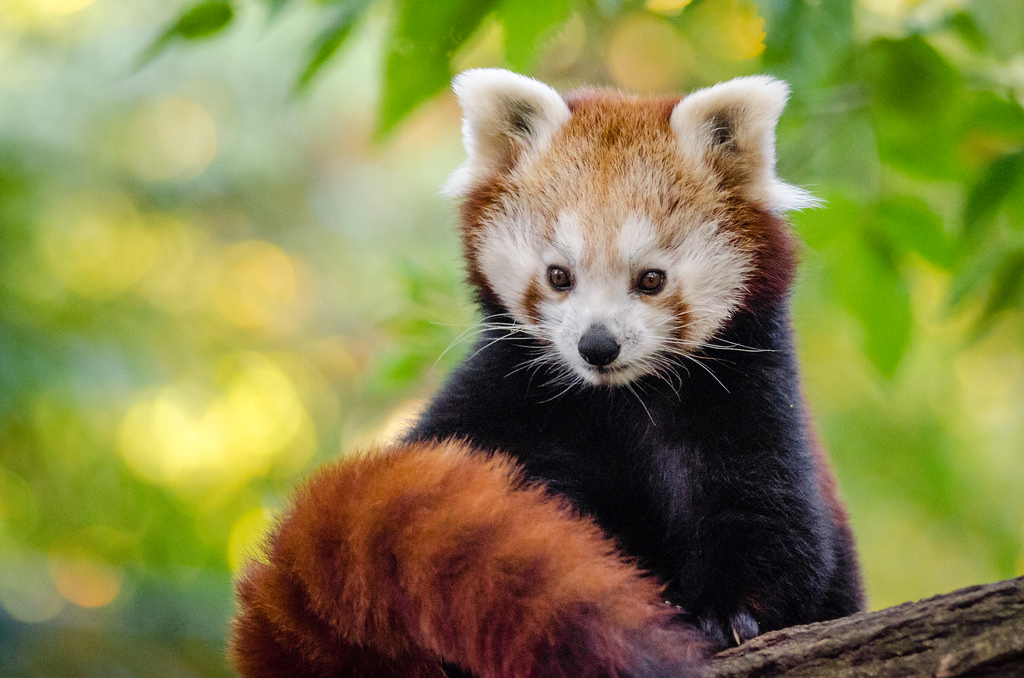red_panda: (253, 63, 863, 668)
